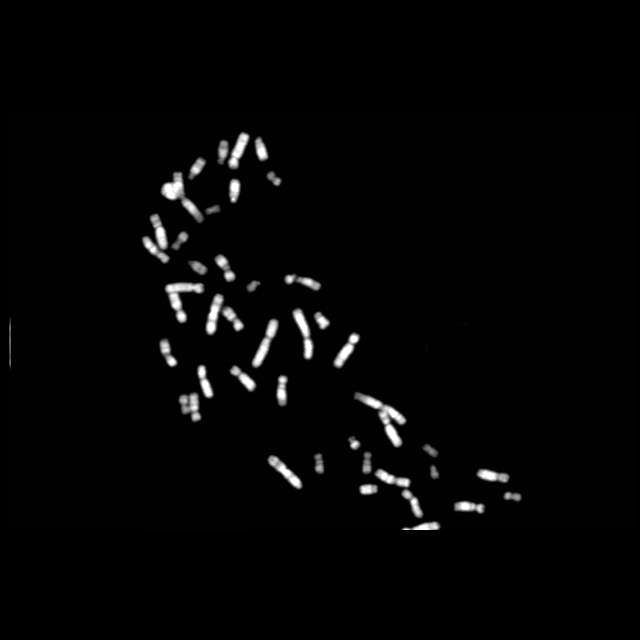chromosome: (353, 392, 405, 424), (172, 172, 203, 224), (266, 454, 304, 490), (252, 320, 278, 368), (292, 308, 314, 360), (334, 332, 360, 370), (379, 410, 403, 446), (228, 132, 250, 170), (166, 288, 188, 322), (205, 292, 222, 336), (141, 237, 169, 263), (229, 366, 256, 392), (376, 468, 410, 488), (150, 213, 168, 249), (284, 274, 320, 292), (402, 489, 424, 517), (198, 364, 215, 398), (222, 306, 244, 332), (476, 469, 509, 485), (216, 256, 236, 282), (188, 391, 202, 421), (454, 500, 484, 514), (160, 339, 175, 366), (400, 520, 440, 530), (188, 157, 206, 179), (162, 182, 184, 200), (276, 375, 288, 407), (165, 284, 203, 294), (314, 310, 331, 332), (228, 178, 242, 204), (255, 137, 270, 161), (173, 230, 189, 250), (187, 258, 207, 274), (216, 141, 229, 165), (422, 442, 438, 458), (313, 452, 325, 473), (359, 483, 378, 495), (266, 172, 282, 186), (246, 277, 260, 293), (362, 452, 372, 472), (428, 462, 439, 480), (205, 204, 221, 216), (349, 434, 361, 450), (504, 492, 522, 502), (180, 394, 188, 414)
